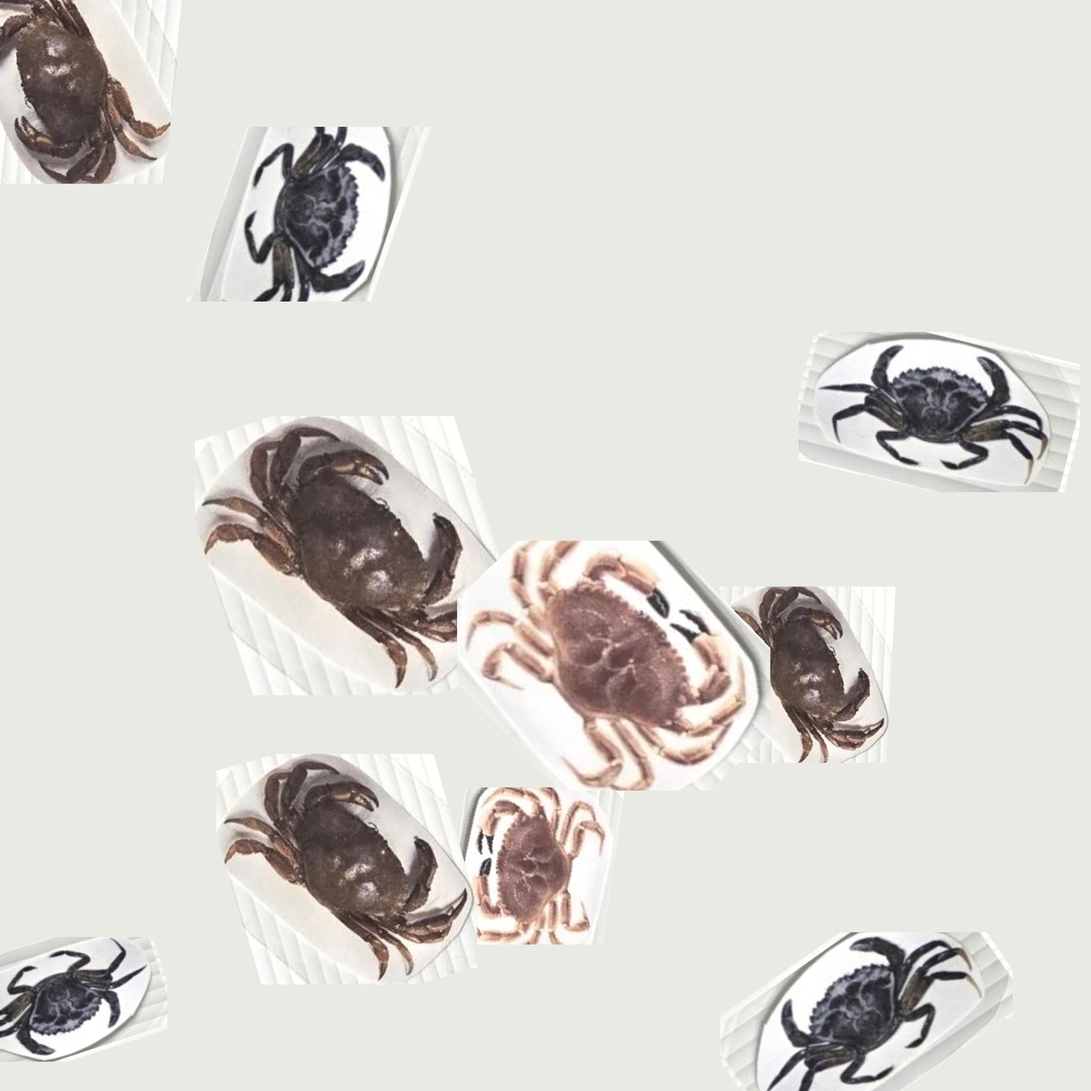evil: (822, 328, 1080, 510), (738, 895, 982, 1085), (241, 132, 401, 294), (0, 928, 146, 1052)
normal: (188, 726, 485, 987), (205, 415, 491, 679), (482, 522, 735, 780), (0, 0, 205, 168), (724, 561, 883, 760), (438, 754, 603, 934)
